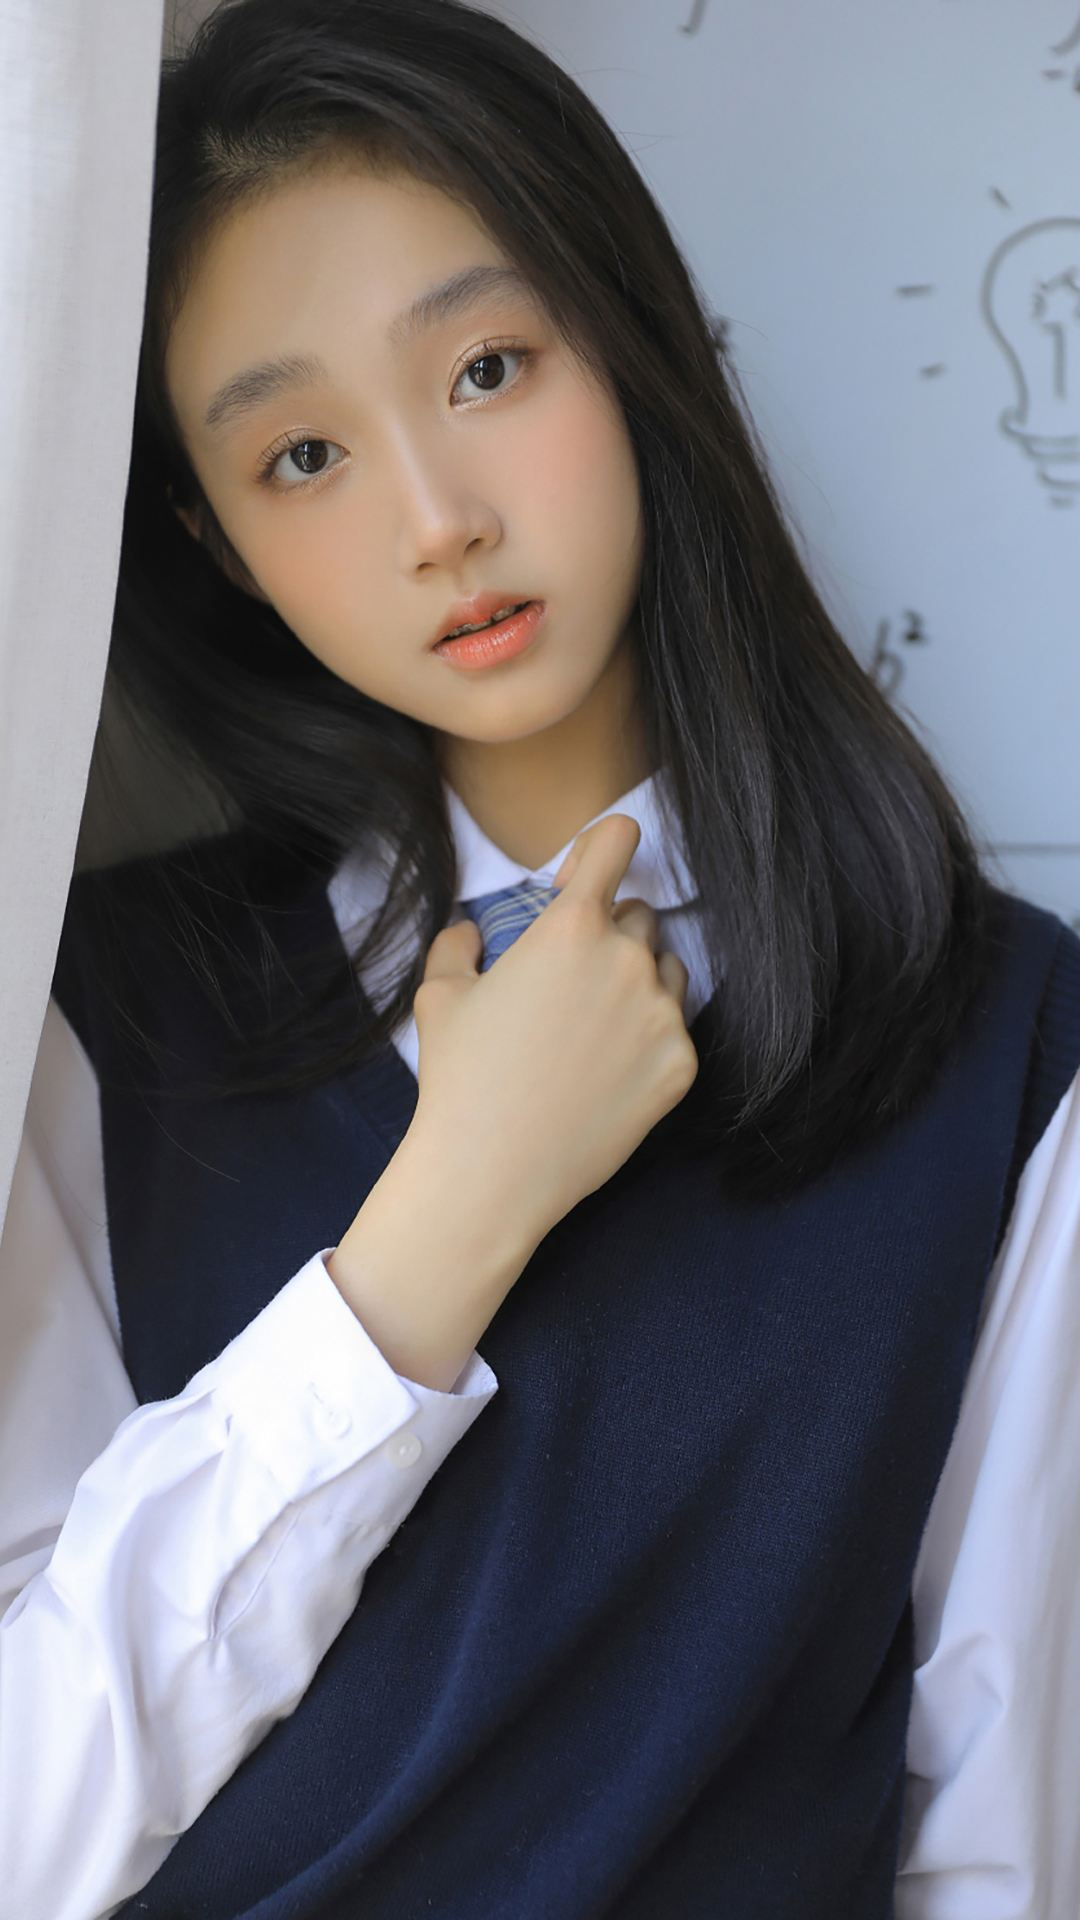person: (85, 108, 877, 1920)
